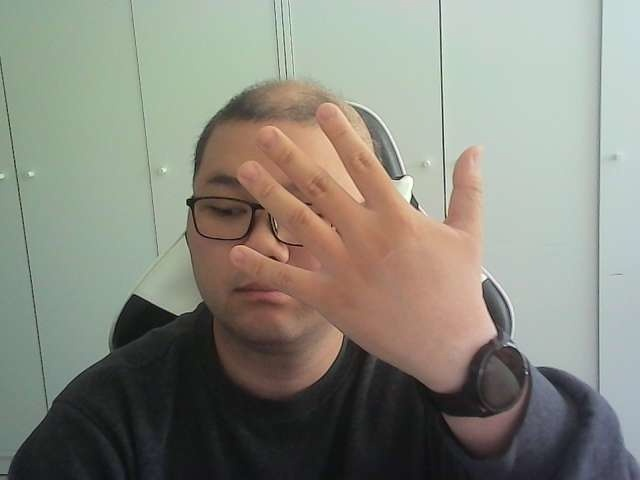Five: (228, 102, 486, 362)
